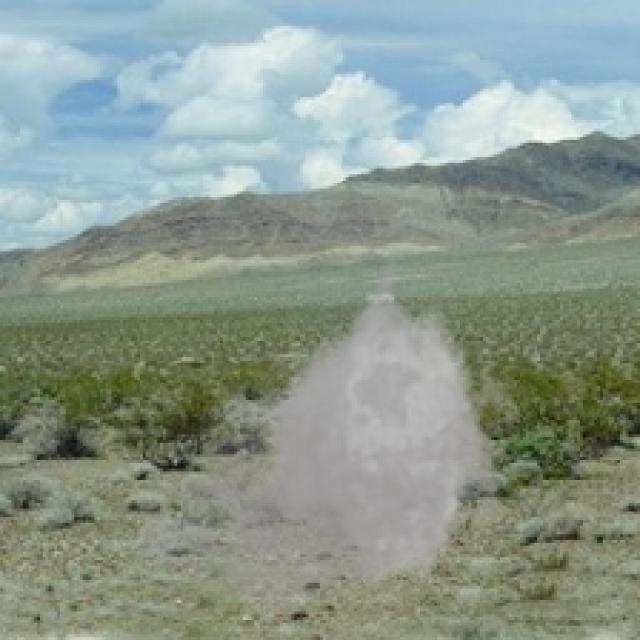Smoke: (123, 242, 532, 628)
